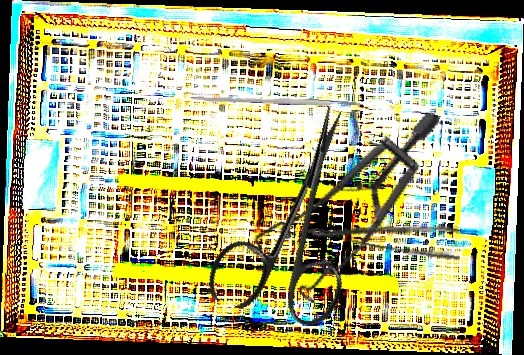Dressing Forceps: (304, 200, 465, 264)
Iris Scissors: (202, 87, 395, 337)
Scalpel Handle: (189, 95, 363, 108)
Speculum: (236, 73, 441, 323)
